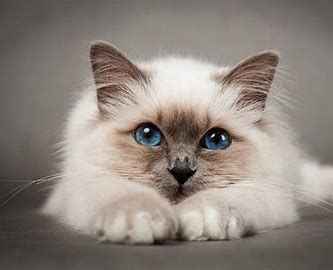cat: (36, 32, 324, 245)
